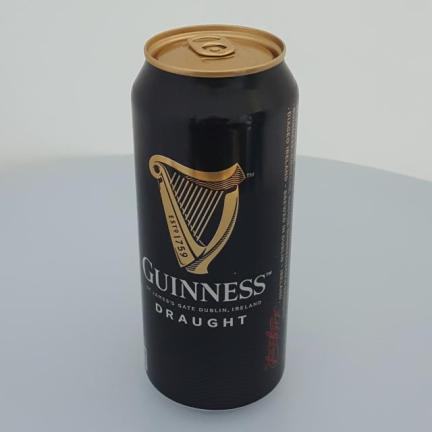can: (132, 25, 298, 409)
